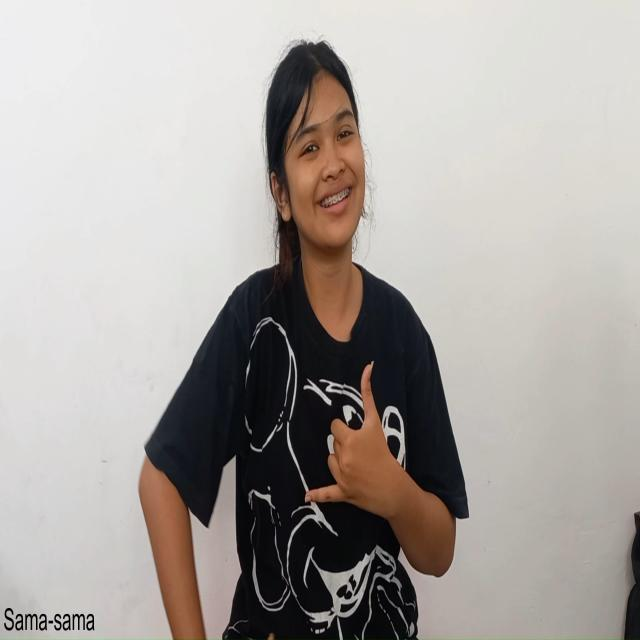Sama-sama -BISINDO-: (302, 351, 408, 530)
